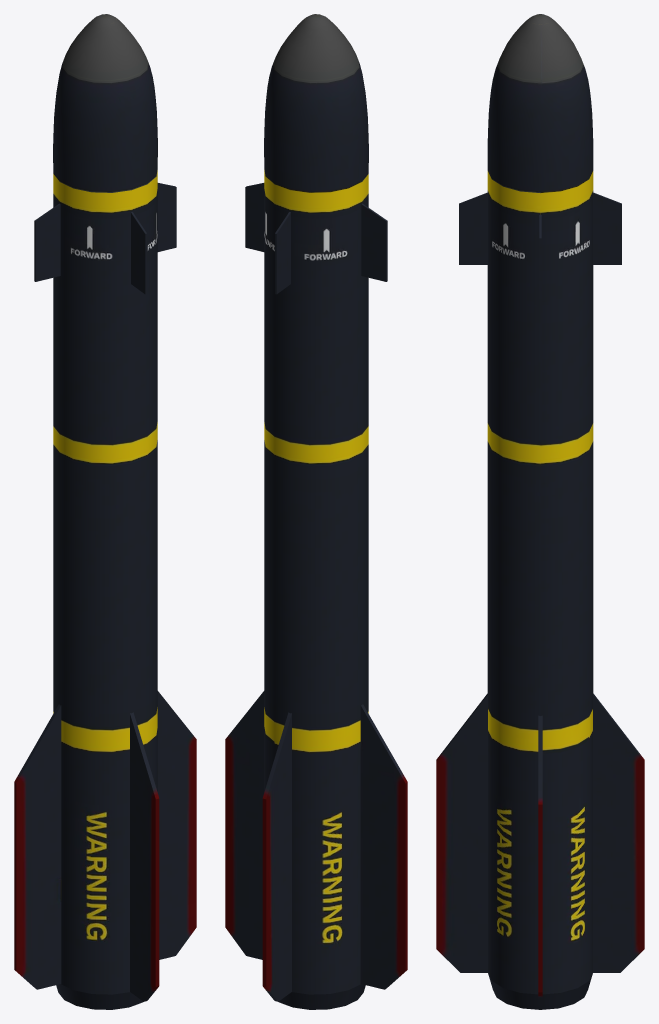
File: hellfire.glb
3 renders of one model, left to right at view 1: azimuth 30°, elevation 25°; view 2: azimuth 150°, elevation 25°; view 3: azimuth 270°, elevation 25°, orthographic.
Visible parts, largest first — view 1: Hellfire__0; view 2: Hellfire__0; view 3: Hellfire__0.
Boxes of the visible parts, x1,y1,x2,y2 form: Hellfire__0: (14,14,196,1009); Hellfire__0: (225,14,407,1009); Hellfire__0: (436,14,644,1009).
Bounding box in the file's own units: 28.15 × 145 × 28.15.
1 material, 1 textured.
